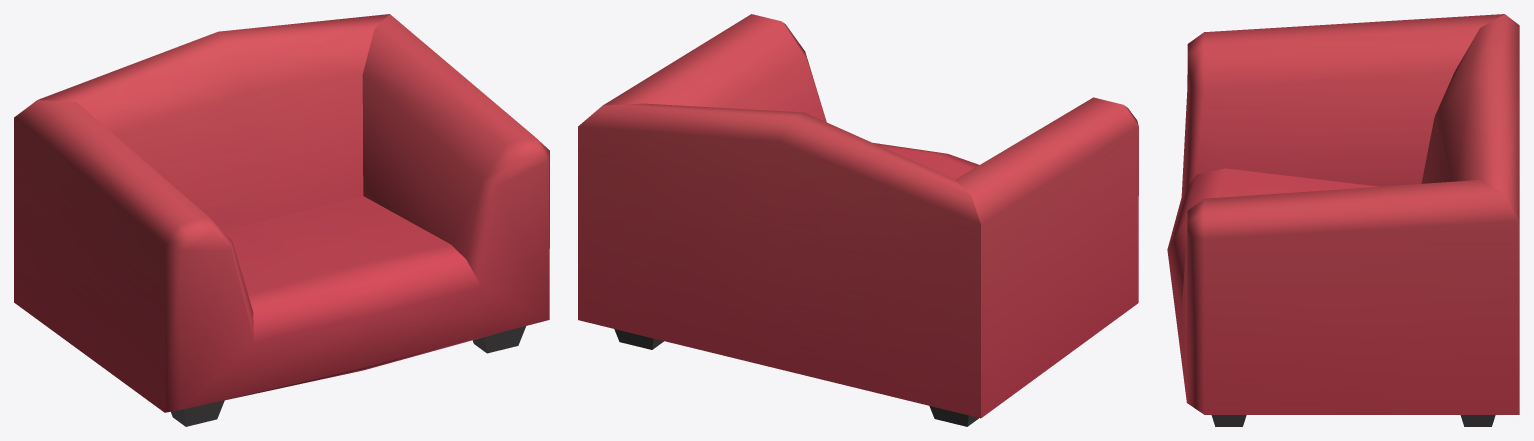
Rendered from SM_Sofa_1_Seat_2_12.fbx.
3 renders of one model, left to right at view 1: azimuth 30°, elevation 25°; view 2: azimuth 150°, elevation 25°; view 3: azimuth 270°, elevation 25°, orthographic. The views are drawn at different scales.
Parts seen in each view (by area): view 1: SM_Sofa_1_Seat_2_12; view 2: SM_Sofa_1_Seat_2_12; view 3: SM_Sofa_1_Seat_2_12.
Part boxes in pixels (x1=…): SM_Sofa_1_Seat_2_12: x1=14, y1=14, x2=549, y2=426; SM_Sofa_1_Seat_2_12: x1=578, y1=14, x2=1138, y2=426; SM_Sofa_1_Seat_2_12: x1=1167, y1=14, x2=1519, y2=426.
Size of the model in its own units: 138 by 87.47 by 104.
